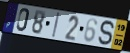0: (15, 7, 30, 33)
2: (64, 15, 81, 42)
6: (83, 17, 98, 44)
8: (31, 10, 46, 36)
I: (51, 12, 61, 39)
S: (97, 20, 116, 47)
